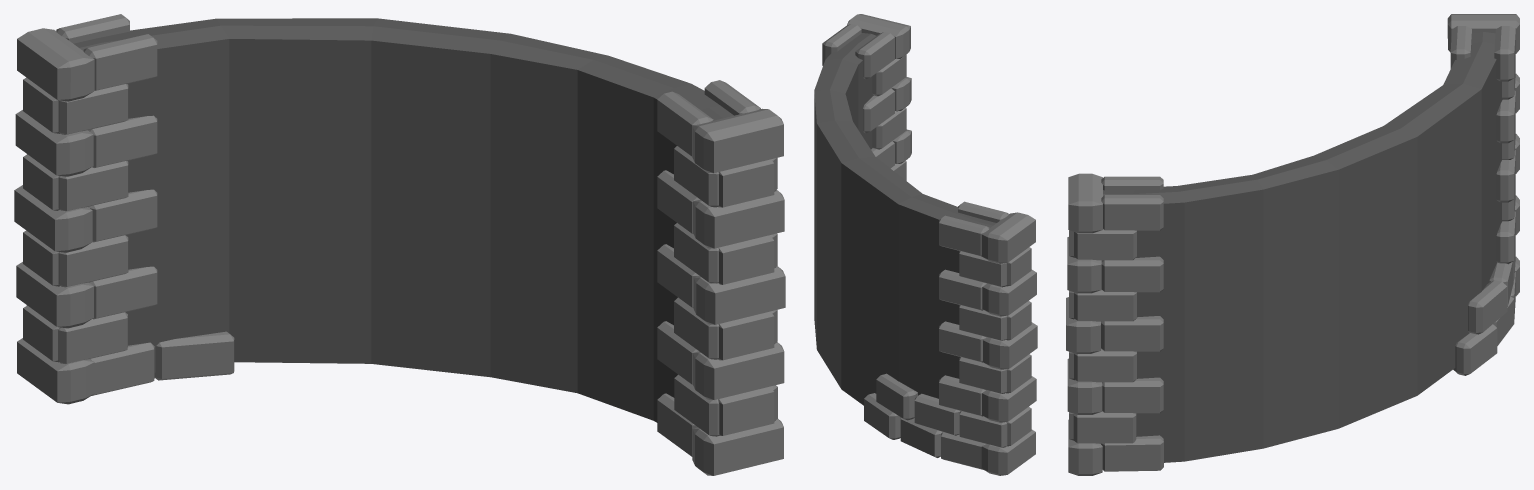
File: DungeonWallRound.fbx
3 views of the same model, side by side, from view 1: azimuth 30°, elevation 25°; view 2: azimuth 150°, elevation 25°; view 3: azimuth 270°, elevation 25° (orthographic). The views are drawn at different scales.
Parts seen in each view (by area): view 1: DungeonWallRound; view 2: DungeonWallRound; view 3: DungeonWallRound.
Part boxes in pixels (x1,y1,x2,y2): DungeonWallRound: [14, 14, 785, 475]; DungeonWallRound: [814, 14, 1037, 475]; DungeonWallRound: [1066, 14, 1519, 475].
Size of the model in its own units: 563 by 375 by 559.
1 material, 1 textured.
